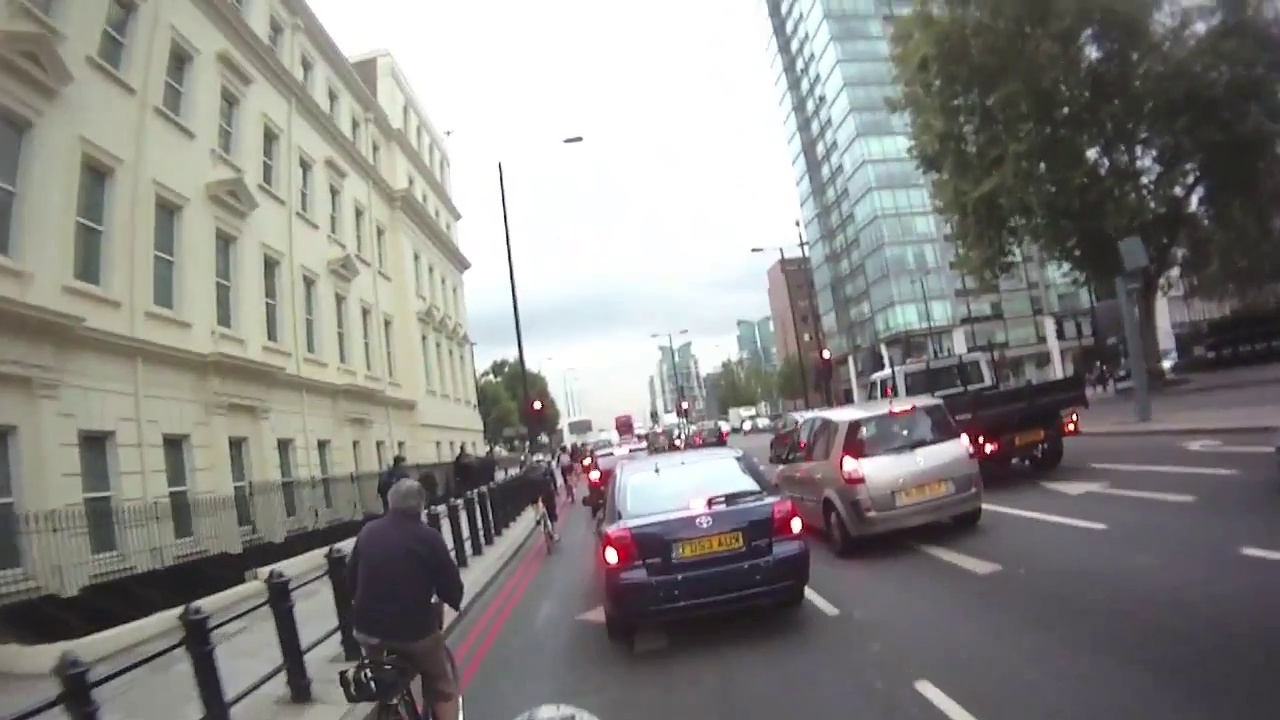cyclist_back: (338, 479, 468, 716), (521, 447, 567, 558)
